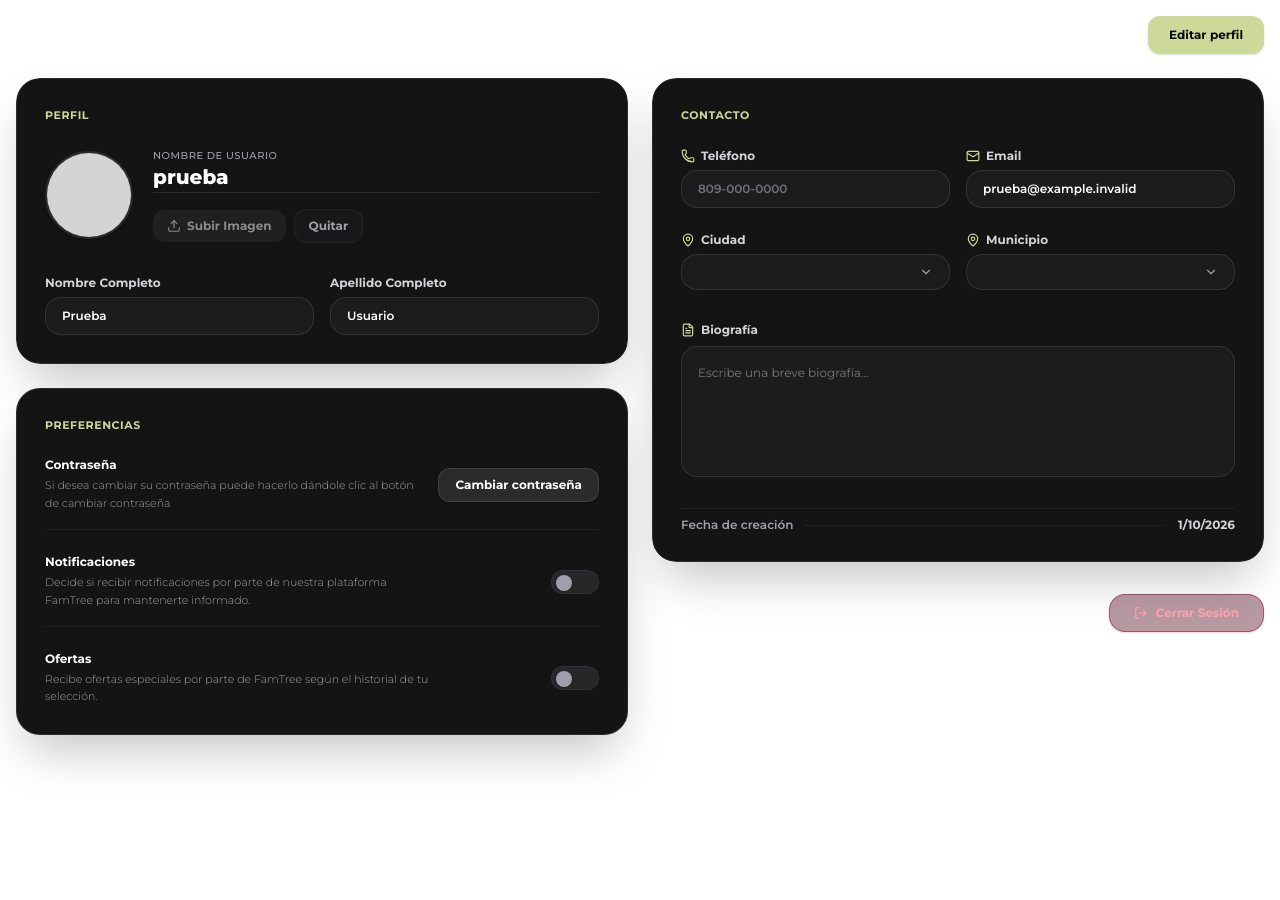
Test: profile edit draft › persists removal only on Save and reads back the resulting profile
The width and height of the screenshot is (1280, 900).
Click the button "Editar perfil" at (1206, 35), box [1148,16,1264,54]
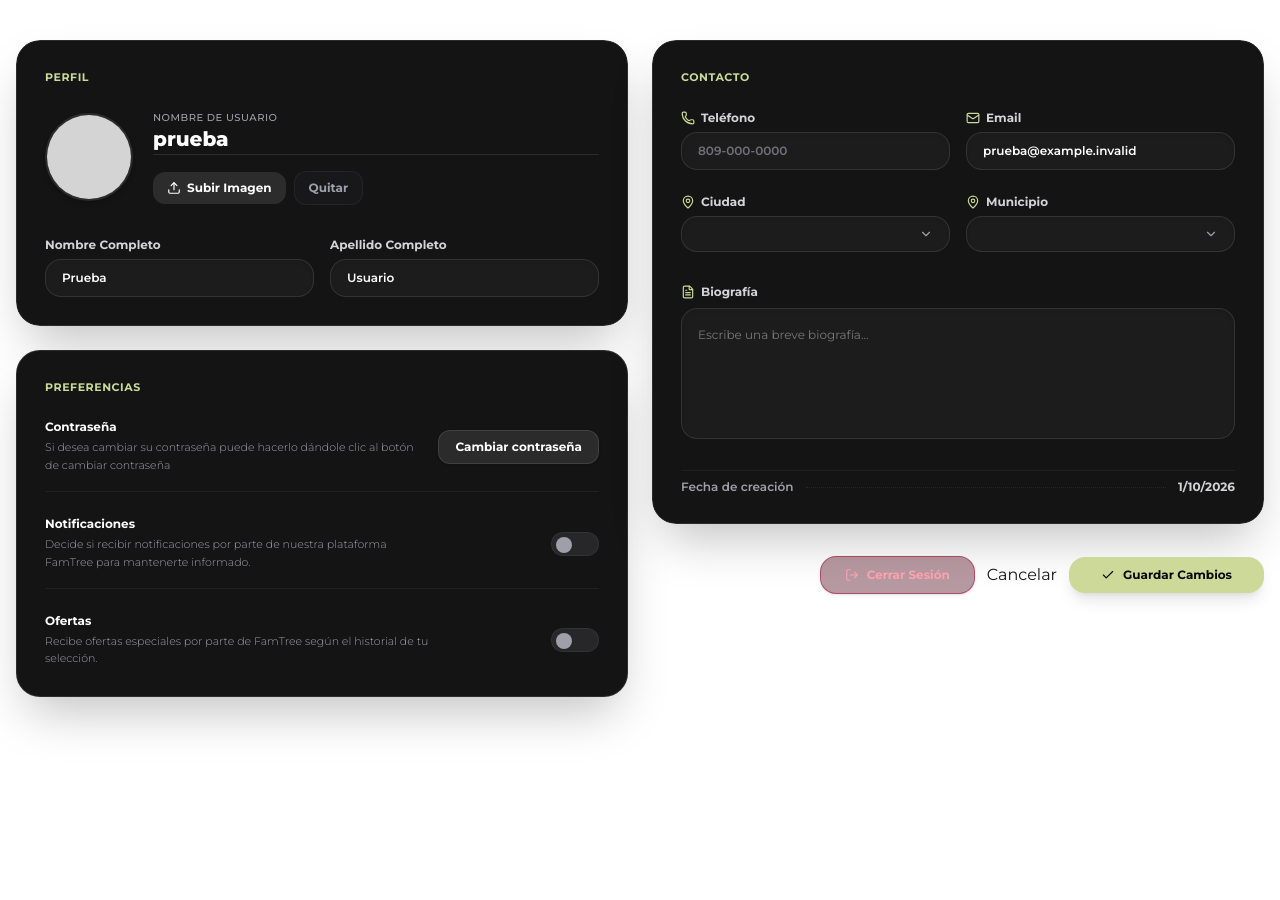
Click the button "Quitar" at (328, 188), box [294,170,363,204]
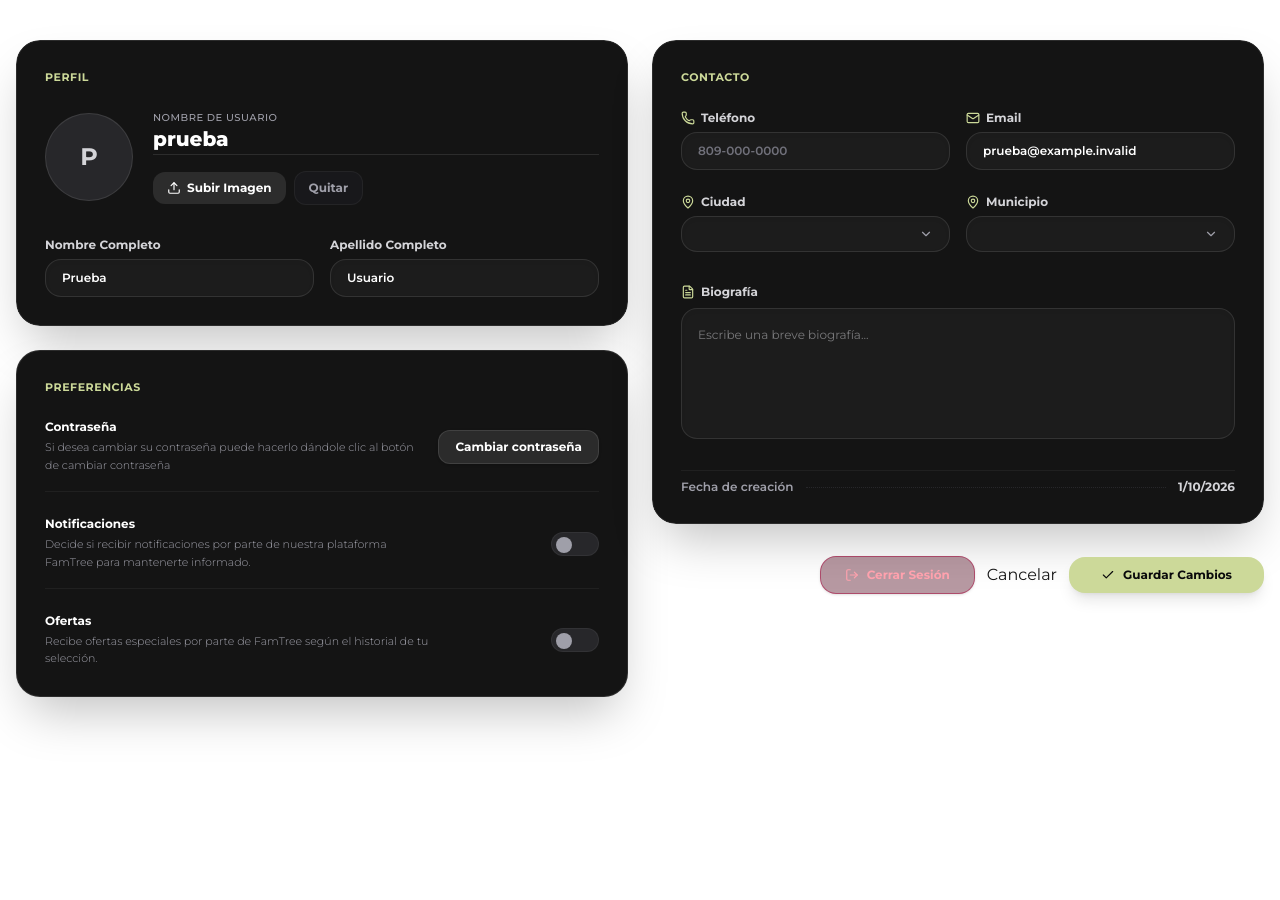
Click the button "Guardar Cambios" at (1166, 575), box [1069,557,1264,593]
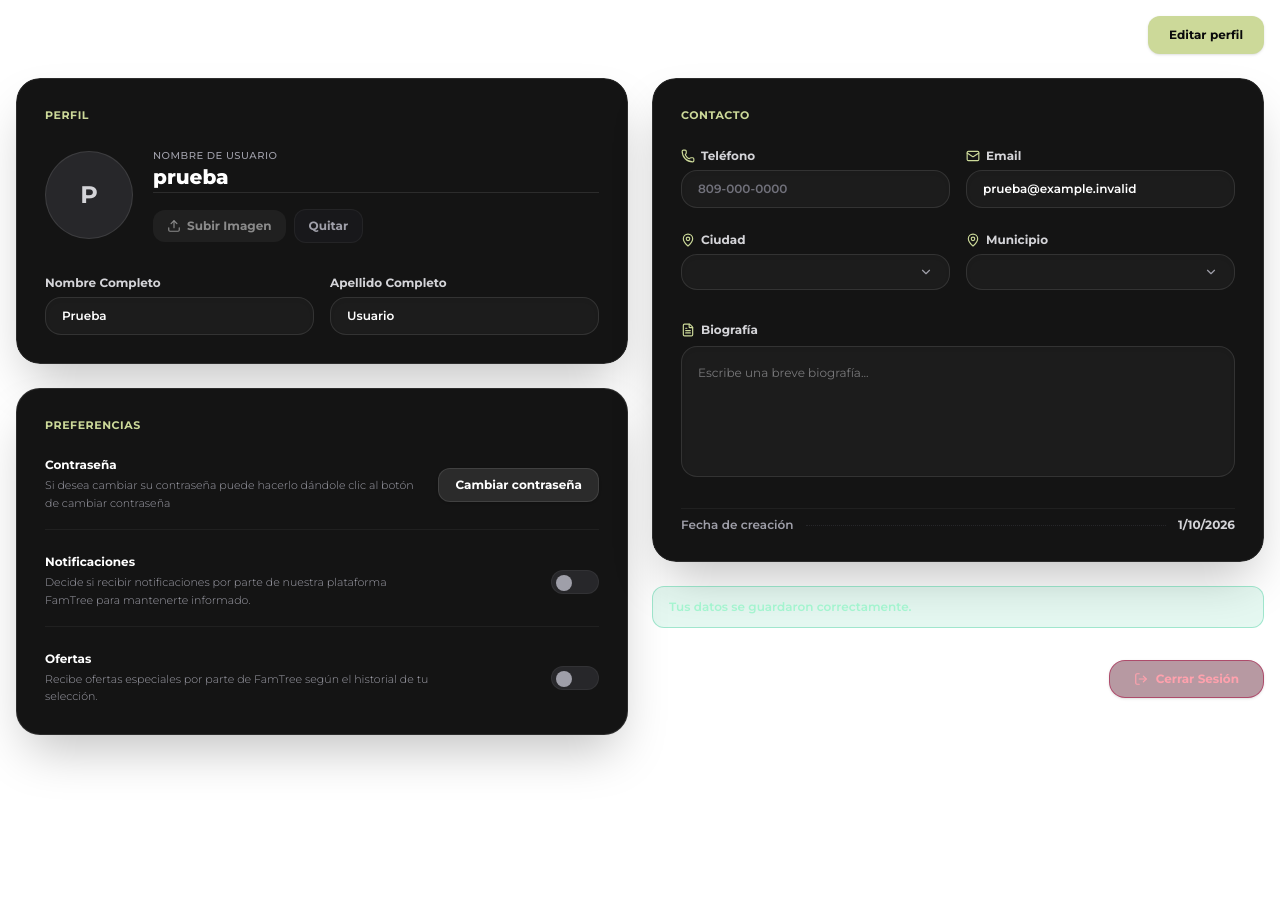
Check: the button "Editar perfil" is shown, box [1148,16,1264,54]
